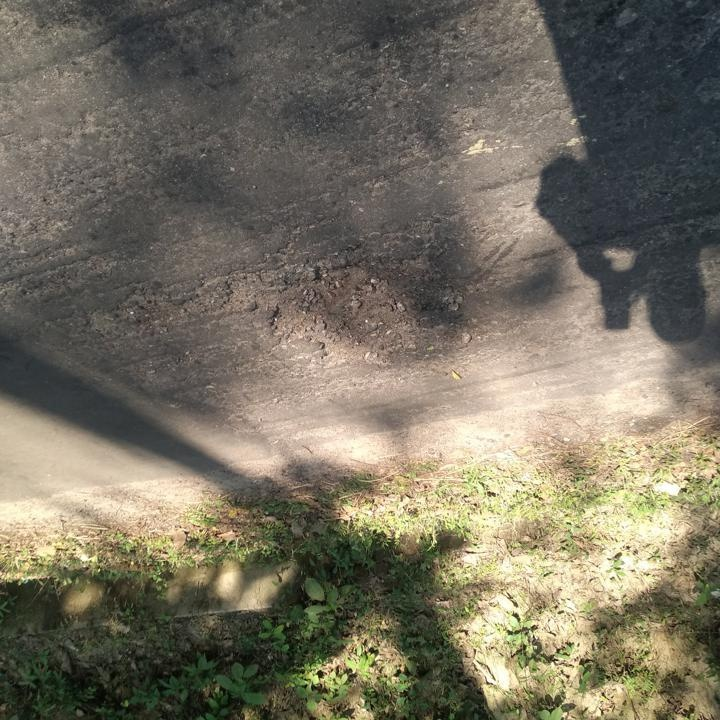pothole: (213, 248, 432, 372)
